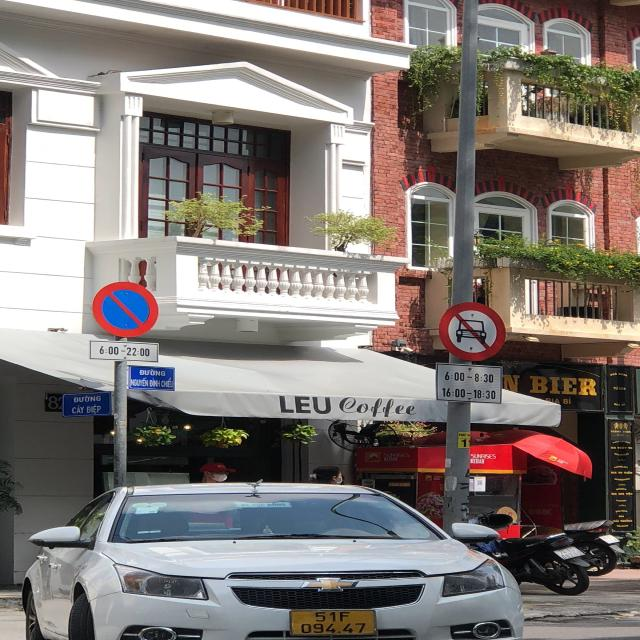Bien bao cam do xe: (87, 278, 167, 338)
Bien bao cam xe oto: (430, 295, 513, 361)
